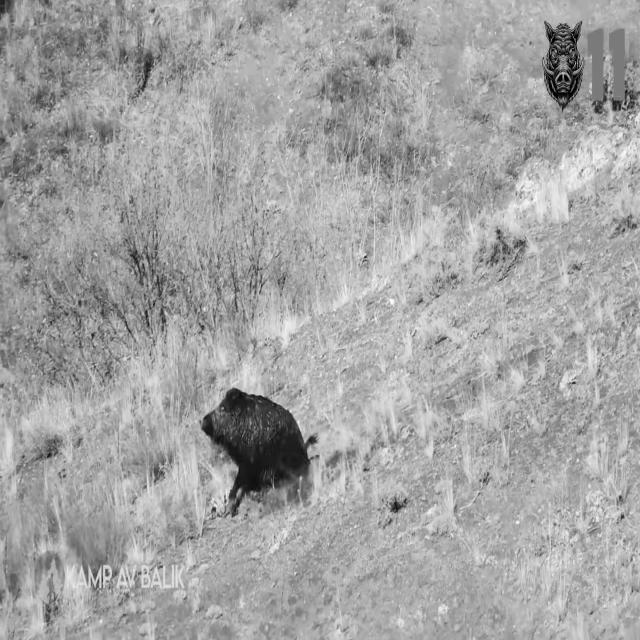boar: (201, 388, 308, 514)
